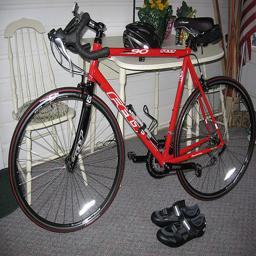bicycle: (128, 52, 256, 256)
chair: (9, 40, 173, 256), (202, 92, 256, 226)
diningtable: (128, 49, 256, 256)
pottedplant: (224, 1, 256, 69)
